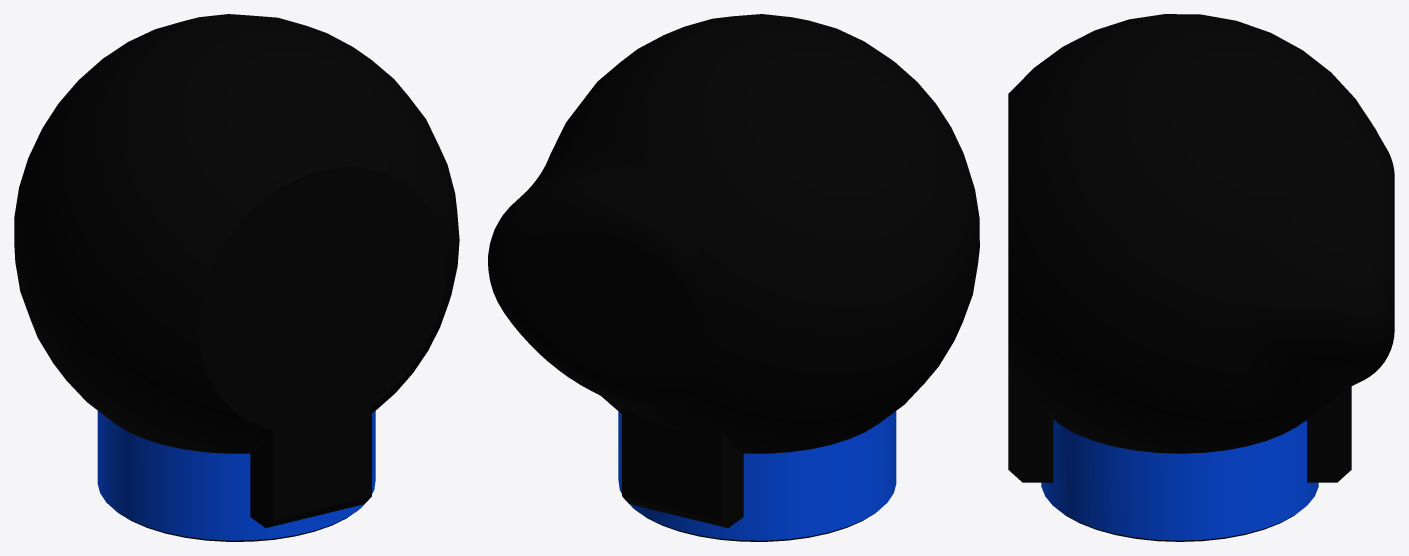
The model's file is leftarm_link6.obj.
3 views of the same model, side by side, from view 1: azimuth 30°, elevation 25°; view 2: azimuth 150°, elevation 25°; view 3: azimuth 270°, elevation 25° (orthographic).
Bounding box in the file's own units: 0.1553 × 0.1733 × 0.135.
